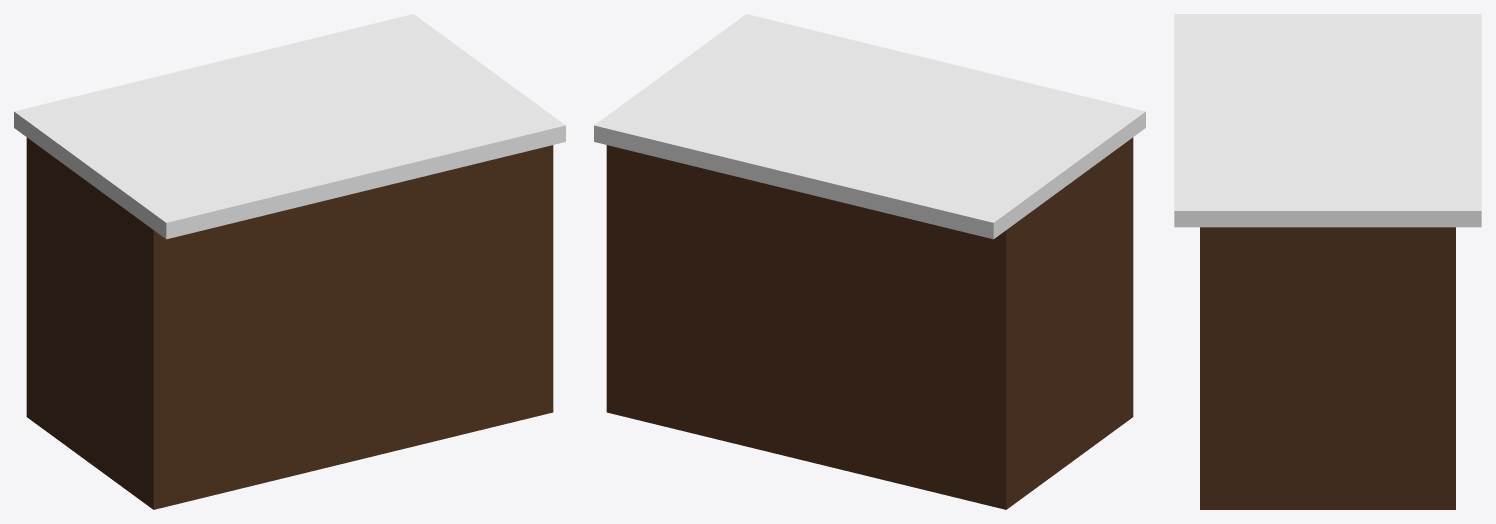
File: barra_corta.glb
3 renders of one model, left to right at view 1: azimuth 30°, elevation 25°; view 2: azimuth 150°, elevation 25°; view 3: azimuth 270°, elevation 25°, orthographic.
Visible parts, largest first — view 1: barra_corta; view 2: barra_corta; view 3: barra_corta.
Part boxes in pixels (bbox=[...]): barra_corta: bbox=[14, 14, 565, 509]; barra_corta: bbox=[594, 14, 1145, 509]; barra_corta: bbox=[1174, 14, 1481, 509].
Size of the model in its own units: 1.52 by 1.08 by 1.01.
